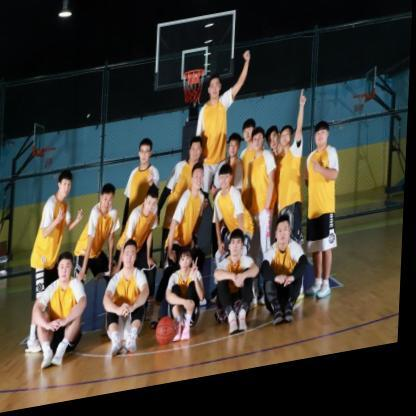basketball: (158, 322, 179, 352)
rim: (182, 76, 206, 114)
